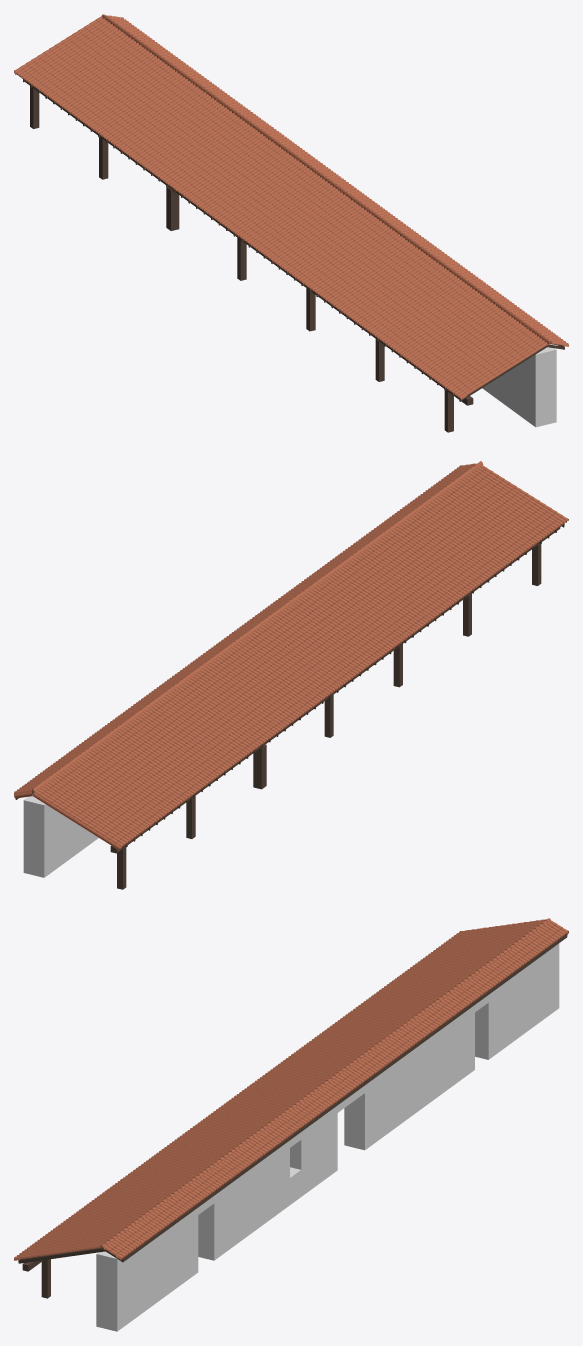
File: quadrangle wall.fbx
3 renders of one model, top to bottom at view 1: azimuth 30°, elevation 25°; view 2: azimuth 150°, elevation 25°; view 3: azimuth 330°, elevation 25°, orthographic.
Visible parts, largest first — view 1: simple roof.037, simple roof.042, Cube.003, simple roof.047, Cube.023, Cube.022, simple roof.040, Cube.024; view 2: simple roof.037, simple roof.042, Cube.003, simple roof.047, Cube.023, simple roof.040, Cube.022, Cube.024; view 3: Cube.003, simple roof.037, simple roof.042, Cube.023, simple roof.047, simple roof.045.
Part boxes in pixels (x1,y1,x2,y2): simple roof.037: (14, 16, 547, 398); simple roof.042: (106, 15, 568, 345); Cube.003: (482, 347, 556, 427); simple roof.047: (101, 14, 552, 344); Cube.023: (17, 74, 564, 401); Cube.022: (25, 81, 473, 405); simple roof.040: (14, 71, 466, 399); Cube.024: (166, 186, 179, 230); simple roof.037: (34, 464, 568, 847); simple roof.042: (14, 463, 476, 794); Cube.003: (23, 794, 98, 877); simple roof.047: (32, 461, 483, 790); Cube.023: (15, 524, 564, 848); simple roof.040: (121, 519, 568, 848); Cube.022: (110, 527, 560, 853); Cube.024: (253, 744, 266, 789); Cube.003: (96, 943, 559, 1331); simple roof.037: (14, 919, 545, 1259); simple roof.042: (104, 920, 568, 1259); Cube.023: (18, 934, 567, 1263); simple roof.047: (100, 918, 550, 1248); simple roof.045: (116, 931, 568, 1259).
Bounding box in the file's own units: 1817 × 1391 × 12981.
